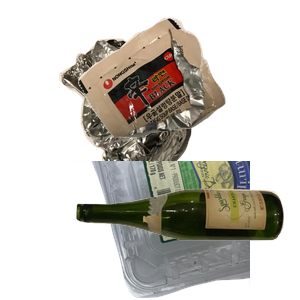glass: (74, 186, 300, 300)
metal: (57, 36, 241, 216)
plastic: (23, 161, 263, 300)
trash: (76, 15, 300, 145)
